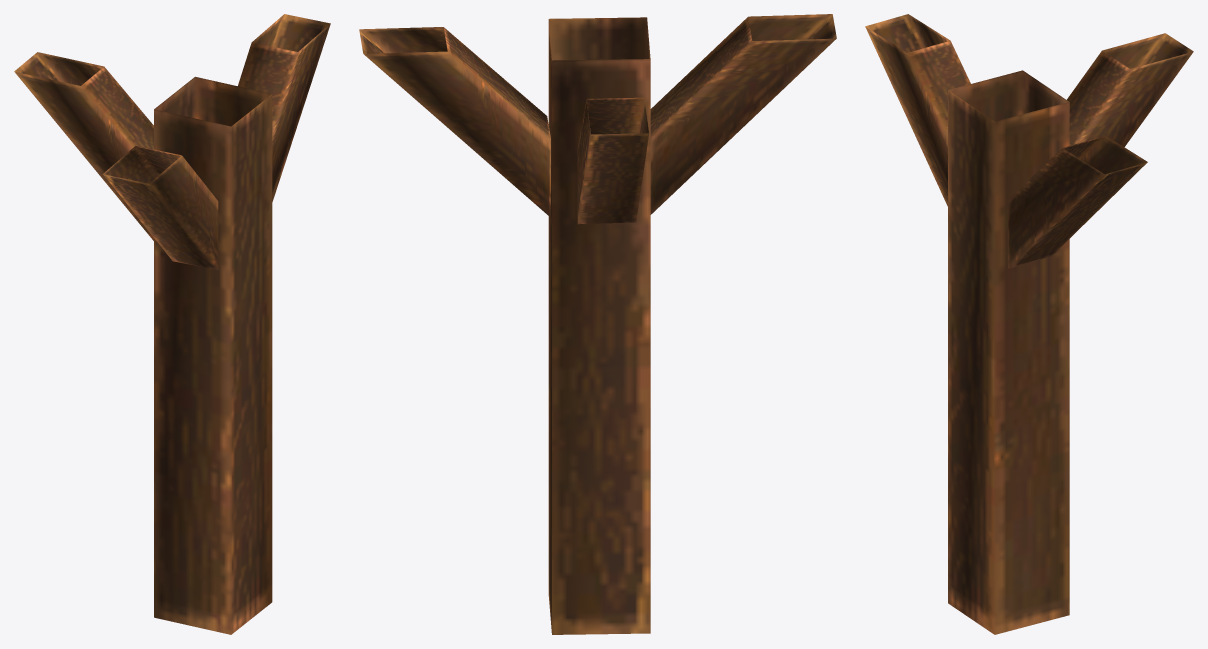
The model's file is SWORDLIGHT20_JAILPLATSUPPORT45.fbx.
3 renders of one model, left to right at view 1: azimuth 30°, elevation 25°; view 2: azimuth 150°, elevation 25°; view 3: azimuth 270°, elevation 25°, orthographic. The views are drawn at different scales.
Visible parts, largest first — view 1: SWORDLIGHT20_JAILPLATSUPPORT45; view 2: SWORDLIGHT20_JAILPLATSUPPORT45; view 3: SWORDLIGHT20_JAILPLATSUPPORT45.
Boxes of the visible parts, box(x1,y1,x2,y2) form: SWORDLIGHT20_JAILPLATSUPPORT45: box(14, 14, 330, 634); SWORDLIGHT20_JAILPLATSUPPORT45: box(359, 14, 836, 634); SWORDLIGHT20_JAILPLATSUPPORT45: box(865, 14, 1193, 634).
Size of the model in its own units: 17220 by 25856 by 14919.
Materials: 1 (1 with a texture image).
